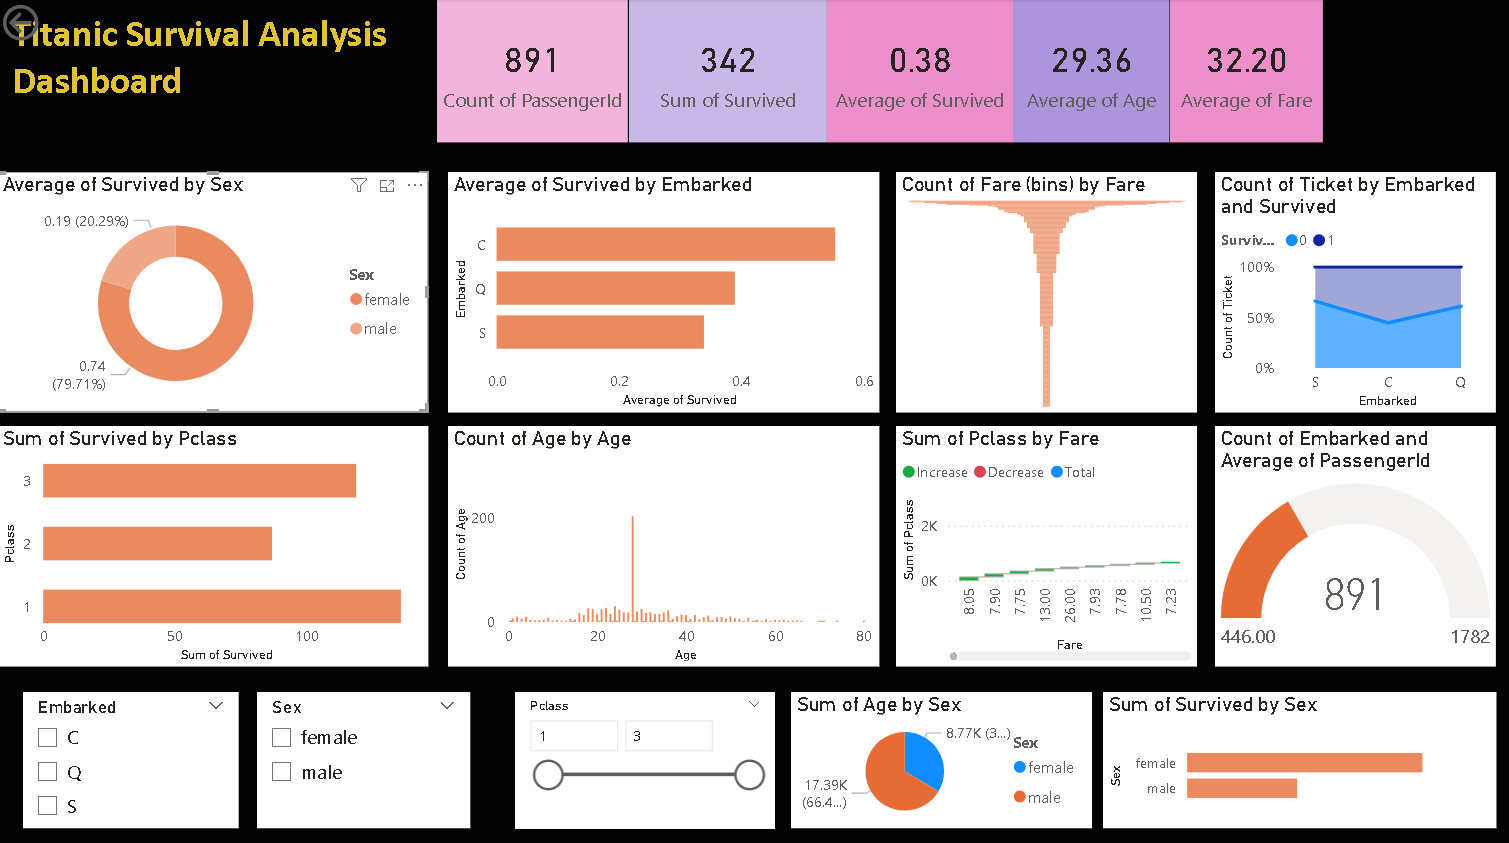

This screenshot's page, from the dashboard's own definition file:
{"tool":"powerbi","page":{"name":"Page 1","canvas":[1280,720],"ordinal":0},"visuals":[{"type":"card","fields":{"Values":["CountNonNull(cleaned_train.PassengerId)"]},"box":[371.6,0,161.5,120.6],"z":0},{"type":"textbox","box":[7.6,5.1,363.7,102.1],"z":1},{"type":"card","fields":{"Values":["Sum(cleaned_train.Survived)"]},"box":[533,0,167.3,120.6],"z":2},{"type":"card","fields":{"Values":["Avg(cleaned_train.Survived)"]},"box":[700.3,0,156.9,120.7],"z":3},{"type":"actionButton","box":[0,0,100,40],"z":4},{"type":"card","fields":{"Values":["Avg(cleaned_train.Age)"]},"box":[857.3,0,132.5,120.7],"z":5},{"type":"card","fields":{"Values":["Avg(cleaned_train.Fare)"]},"box":[989.7,0,129.1,120.7],"z":6},{"type":"clusteredBarChart","fields":{"Y":["Sum(cleaned_train.Survived)"],"Category":["cleaned_train.Pclass"]},"box":[0,360.3,363.7,203.3],"z":8},{"type":"clusteredBarChart","fields":{"Y":["Avg(cleaned_train.Survived)"],"Category":["cleaned_train.Embarked"]},"box":[380.5,146,363.7,202.5],"z":9},{"type":"clusteredColumnChart","fields":{"Category":["cleaned_train.Age"],"Y":["CountNonNull(cleaned_train.Age)"]},"box":[380.5,360.3,363.7,203.3],"z":10},{"type":"donutChart","fields":{"Category":["cleaned_train.Sex"],"Y":["Avg(cleaned_train.Survived)"]},"box":[0,146,363.7,202.5],"z":11},{"type":"funnel","fields":{"Category":["cleaned_train.Fare"],"Y":["CountNonNull(cleaned_train.Fare (bins))"]},"box":[758.5,146,254,203.3],"z":12},{"type":"slicer","fields":{"Values":["cleaned_train.Sex"]},"box":[219.4,584.7,179.7,114.8],"z":13},{"type":"slicer","fields":{"Values":["cleaned_train.Pclass"]},"box":[437.1,584.7,219.4,114.8],"z":14},{"type":"slicer","fields":{"Values":["cleaned_train.Embarked"]},"box":[21.9,584.7,182.3,114.8],"z":15},{"type":"waterfallChart","fields":{"Category":["cleaned_train.Fare"],"Y":["Sum(cleaned_train.Pclass)"]},"box":[758.5,360.3,254,203.3],"z":16},{"type":"gauge","fields":{"Y":["CountNonNull(cleaned_train.Embarked)"],"MinValue":["Avg(cleaned_train.PassengerId)"]},"box":[1027.7,360.3,237.1,203.3],"z":17},{"type":"hundredPercentStackedAreaChart","fields":{"Category":["cleaned_train.Embarked"],"Y":["CountNonNull(cleaned_train.Ticket)"],"Series":["cleaned_train.Survived"]},"box":[1027.7,146,237.1,203.3],"z":18},{"type":"pieChart","fields":{"Y":["Sum(cleaned_train.Age)"],"Series":["cleaned_train.Sex"]},"box":[670,584.7,254,114.8],"z":19},{"type":"barChart","fields":{"Y":["Sum(cleaned_train.Survived)"],"Category":["cleaned_train.Sex"]},"box":[933.2,584.7,331.6,114.8],"z":20}]}

Visuals, with their boxes in screenshot pixels (x1, y1, x2, y2), scaled from the page's 1280x720 canvas onto the 1509x843 screenshot:
card - CountNonNull(cleaned_train.PassengerId): bbox=(438, 0, 628, 141)
textbox: bbox=(9, 6, 438, 126)
card - Sum(cleaned_train.Survived): bbox=(628, 0, 826, 141)
card - Avg(cleaned_train.Survived): bbox=(826, 0, 1011, 141)
actionButton: bbox=(0, 0, 118, 47)
card - Avg(cleaned_train.Age): bbox=(1011, 0, 1167, 141)
card - Avg(cleaned_train.Fare): bbox=(1167, 0, 1319, 141)
clusteredBarChart - Sum(cleaned_train.Survived) x cleaned_train.Pclass: bbox=(0, 422, 429, 660)
clusteredBarChart - Avg(cleaned_train.Survived) x cleaned_train.Embarked: bbox=(449, 171, 877, 408)
clusteredColumnChart - cleaned_train.Age x CountNonNull(cleaned_train.Age): bbox=(449, 422, 877, 660)
donutChart - cleaned_train.Sex x Avg(cleaned_train.Survived): bbox=(0, 171, 429, 408)
funnel - cleaned_train.Fare x CountNonNull(cleaned_train.Fare (bins)): bbox=(894, 171, 1194, 409)
slicer - cleaned_train.Sex: bbox=(259, 685, 471, 819)
slicer - cleaned_train.Pclass: bbox=(515, 685, 774, 819)
slicer - cleaned_train.Embarked: bbox=(26, 685, 241, 819)
waterfallChart - cleaned_train.Fare x Sum(cleaned_train.Pclass): bbox=(894, 422, 1194, 660)
gauge - CountNonNull(cleaned_train.Embarked) x Avg(cleaned_train.PassengerId): bbox=(1212, 422, 1491, 660)
hundredPercentStackedAreaChart - cleaned_train.Embarked x CountNonNull(cleaned_train.Ticket): bbox=(1212, 171, 1491, 409)
pieChart - Sum(cleaned_train.Age) x cleaned_train.Sex: bbox=(790, 685, 1089, 819)
barChart - Sum(cleaned_train.Survived) x cleaned_train.Sex: bbox=(1100, 685, 1491, 819)
